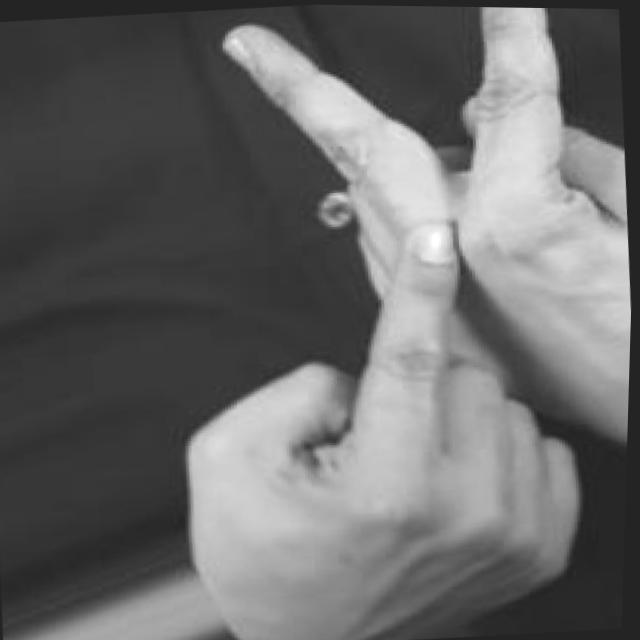Y: (145, 2, 640, 640)
